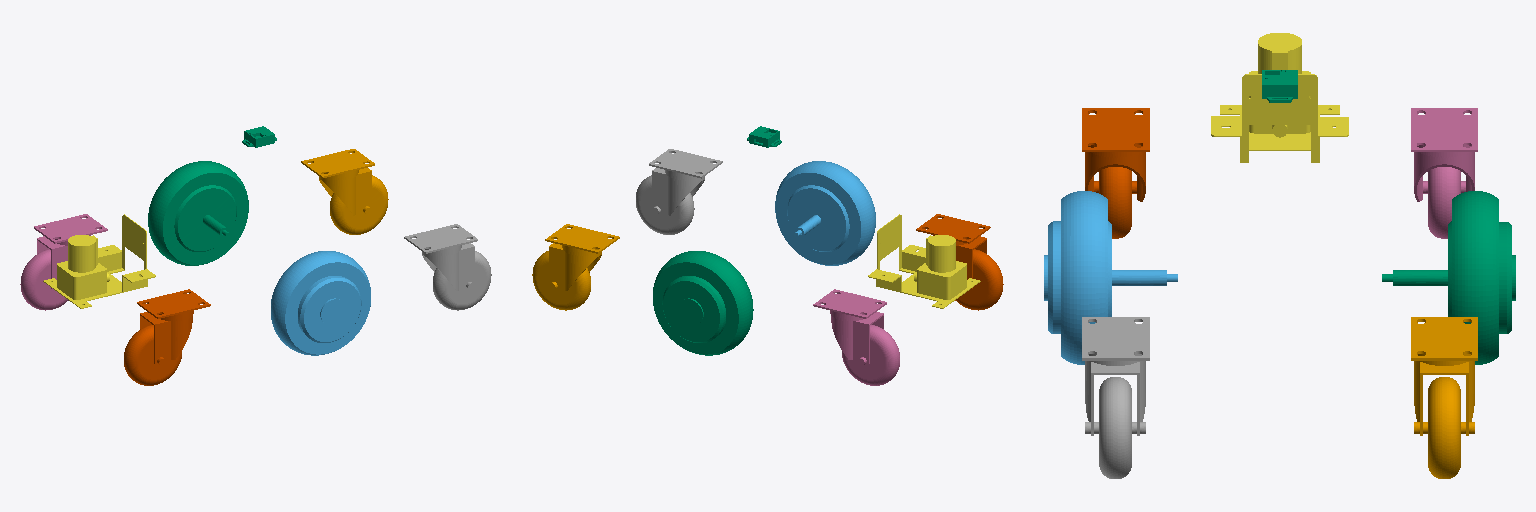
robot.urdf — amr:
<?xml version="1.0"?>
<robot name="amr">

  <link name="base_link" />
  <joint name="base_to_chassis_joint" type="fixed">
    <parent link="base_link" />
    <child link="chassis_link" />
    <origin xyz="0 0 0" rpy="0 0 -1.5708" />
  </joint>
  <link name="chassis_link">
    <visual>
      <origin xyz="0 0 0.179749" rpy="0 0 0" />
      <geometry>
        <mesh filename="package://amr_description/meshes/base_link.obj" scale="1 1 1" />
      </geometry>
    </visual>
    <collision>
      <origin xyz="0 0.22 0.199749" rpy="0 0 0" />
      <geometry>
        <box size="0.47 0.71 0.35" />
      </geometry>
    </collision>
    <inertial>
      <origin xyz="0 0.22 0.199749" rpy="0 0 0" />
      <mass value="25.0" /> 
      <inertia ixx="1.3054" ixy="0" ixz="0" iyy="0.7154" iyz="0" izz="1.5104" />
    </inertial>
  </link>
  <link name="imu_link">
    <visual>
      <origin xyz="0 0 0" rpy="0 0 0" />
      <geometry>
        <mesh filename="package://amr_description/meshes/imu_link.obj" scale="1 1 1" />
      </geometry>
    </visual>
    <inertial>
      <mass value="0.05" /> 
      <inertia ixx="1.21e-05" ixy="0" ixz="0" iyy="6.11e-06" iyz="0" izz="1.62e-05" />
    </inertial>
  </link>

  <joint name="imu_joint" type="fixed">
    <parent link="chassis_link" />
    <child link="imu_link" />
    <origin xyz="0 0 0.179749" rpy="0 0 0" /> 
  </joint>

  <gazebo reference="imu_link">
    <sensor name="imu_sensor" type="imu">
      <always_on>true</always_on>
      <update_rate>100</update_rate>
      <visualize>false</visualize>
      <topic>imu</topic>
      <gz_frame_id>imu_link</gz_frame_id>
    </sensor>
  </gazebo>

  <link name="lidar_link">
    <visual>
      <origin xyz="0 0.085781 0" rpy="0 0 0" />
      <geometry>
        <mesh filename="package://amr_description/meshes/lidar_link.obj" scale="1 1 1" />
      </geometry>
    </visual>
    <inertial>
      <mass value="0.2" />
      <inertia ixx="0.000436" ixy="0" ixz="0" iyy="0.000451" iyz="0" izz="0.000586" />
    </inertial>
  </link>

  <joint name="lidar_joint" type="fixed">
    <parent link="chassis_link" />
    <child link="lidar_link" />
    <origin xyz="0 -0.085781 0.179749" rpy="0 0 0" /> 
  </joint>

  <gazebo reference="lidar_link">
    <sensor name="lidar_sensor" type="gpu_lidar">
      <always_on>true</always_on>
      <update_rate>10</update_rate>
      <visualize>true</visualize>
      <topic>scan</topic>
      <gz_frame_id>lidar_link</gz_frame_id>
      <lidar>
        <scan>
          <horizontal>
            <samples>540</samples>
            <resolution>1</resolution>
            <min_angle>-1.5708</min_angle>
            <max_angle>1.5708</max_angle>
          </horizontal>
        </scan>
        <range>
          <min>0.1</min>
          <max>10.0</max>
          <resolution>0.01</resolution>
        </range>
      </lidar>
    </sensor>
  </gazebo>

  <link name="enclosure_link">
    <visual>
      <origin xyz="0 0 0" rpy="0 0 0" />
      <geometry>
        <mesh filename="package://amr_description/meshes/enclosure_link.obj" scale="1 1 1" />
      </geometry>
    </visual>
    <inertial>
      <mass value="2.0" /> 
      <inertia ixx="0.09913" ixy="0" ixz="0" iyy="0.04993" iyz="0" izz="0.12283" />
    </inertial>
  </link>

  <joint name="enclosure_joint" type="fixed">
    <parent link="chassis_link" />
    <child link="enclosure_link" />
    <origin xyz="0 0 0.179749" rpy="0 0 0" /> 
  </joint>

  <link name="caster1_link">
    <visual>
      <origin xyz="0.16 0.03 0.114749" rpy="0 0 0" />
      <geometry>
        <mesh filename="package://amr_description/meshes/caster1_link.obj" scale="1 1 1" />
      </geometry>
    </visual>
    <collision>
      <origin xyz="0 0 0" rpy="0 0 0" />
      <geometry>
        <sphere radius="0.065" />
      </geometry>
    </collision>
    <inertial>
      <mass value="0.2" /> <!-- PLACEHOLDER mass -->
      <inertia ixx="0.000338" ixy="0" ixz="0" iyy="0.000338" iyz="0" izz="0.000338" />
    </inertial>
  </link>

  <joint name="caster1_joint" type="fixed">
    <parent link="chassis_link" />
    <child link="caster1_link" />
    <origin xyz="-0.16 -0.03 0.065" rpy="0 0 0" /> 
  </joint>

  <gazebo reference="caster1_link">
    <mu1>0.0</mu1>
    <mu2>0.0</mu2>
  </gazebo>

  <link name="caster2_link">
    <visual>
      <origin xyz="-0.16 0.03 0.114749" rpy="0 0 0" />
      <geometry>
        <mesh filename="package://amr_description/meshes/caster2_link.obj" scale="1 1 1" />
      </geometry>
    </visual>
    <collision>
      <origin xyz="0 0 0" rpy="0 0 0" />
      <geometry>
        <sphere radius="0.065" />
      </geometry>
    </collision>
    <inertial>
      <mass value="0.2" /> 
      <inertia ixx="0.000338" ixy="0" ixz="0" iyy="0.000338" iyz="0" izz="0.000338" />
    </inertial>
  </link>

  <joint name="caster2_joint" type="fixed">
    <parent link="chassis_link" />
    <child link="caster2_link" />
    <origin xyz="0.16 -0.03 0.065" rpy="0 0 0" /> 
  </joint>

  <gazebo reference="caster2_link">
    <mu1>0.0</mu1>
    <mu2>0.0</mu2>
  </gazebo>

  <link name="caster3_link">
    <visual>
      <origin xyz="0.16 -0.49 0.114749" rpy="0 0 0" />
      <geometry>
        <mesh filename="package://amr_description/meshes/caster3_link.obj" scale="1 1 1" />
      </geometry>
    </visual>
    <collision>
      <origin xyz="0 0 0" rpy="0 0 0" />
      <geometry>
        <sphere radius="0.065" />
      </geometry>
    </collision>
    <inertial>
      <mass value="0.2" /> 
      <inertia ixx="0.000338" ixy="0" ixz="0" iyy="0.000338" iyz="0" izz="0.000338" />
    </inertial>
  </link>

  <joint name="caster3_joint" type="fixed">
    <parent link="chassis_link" />
    <child link="caster3_link" />
    <origin xyz="-0.16 0.49 0.065" rpy="0 0 0" /> 
  </joint>

  <gazebo reference="caster3_link">
    <mu1>0.0</mu1>
    <mu2>0.0</mu2>
  </gazebo>

  <link name="caster4_link">
    <visual>
      <origin xyz="-0.16 -0.49 0.114749" rpy="0 0 0" />
      <geometry>
        <mesh filename="package://amr_description/meshes/caster4_link.obj" scale="1 1 1" />
      </geometry>
    </visual>
    <collision>
      <origin xyz="0 0 0" rpy="0 0 0" />
      <geometry>
        <sphere radius="0.065" />
      </geometry>
    </collision>
    <inertial>
      <mass value="0.2" /> 
      <inertia ixx="0.000338" ixy="0" ixz="0" iyy="0.000338" iyz="0" izz="0.000338" />
    </inertial>
  </link>

  <joint name="caster4_joint" type="fixed">
    <parent link="chassis_link" />
    <child link="caster4_link" />
    <origin xyz="0.16 0.49 0.065" rpy="0 0 0" /> 
  </joint>

  <gazebo reference="caster4_link">
    <mu1>0.0</mu1>
    <mu2>0.0</mu2>
  </gazebo>

  <link name="wheel_left_link">
    <visual>
      <origin xyz="-0.1902635 -0.233008 0.094749" rpy="0 0 0" />
      <geometry>
        <mesh filename="package://amr_description/meshes/wheel_left_link.obj" scale="1 1 1" />
      </geometry>
    </visual>
    <collision>
      <origin xyz="0 0 0" rpy="0 1.5708 0" />
      <geometry>
        <cylinder radius="0.085" length="0.06" />
      </geometry>
    </collision>
    <inertial>
      <mass value="5.0" /> 
      <inertia ixx="0.018063" ixy="0" ixz="0" iyy="0.010531" iyz="0" izz="0.010531" />
    </inertial>
  </link>

  <joint name="wheel_left_joint" type="continuous">
    <parent link="chassis_link" />
    <child link="wheel_left_link" />
    <origin xyz="0.1902635 0.233008 0.085" rpy="0 0 0" />
    <axis xyz="1 0 0" />
    <dynamics damping="0.1" friction="0.0" /> 
  </joint>

  <link name="wheel_right_link">
    <visual>
      <origin xyz="0.1902635 -0.233088 0.094749" rpy="0 0 0" />
      <geometry>
        <mesh filename="package://amr_description/meshes/wheel_right_link.obj" scale="1 1 1" />
      </geometry>
    </visual>
    <collision>
      <origin xyz="0 0 0" rpy="0 1.5708 0" />
      <geometry>
        <cylinder radius="0.085" length="0.06" />
      </geometry>
    </collision>
    <inertial>
      <mass value="5.0" /> 
      <inertia ixx="0.018063" ixy="0" ixz="0" iyy="0.010531" iyz="0" izz="0.010531" />
    </inertial>
  </link>

  <joint name="wheel_right_joint" type="continuous">
    <parent link="chassis_link" />
    <child link="wheel_right_link" />
    <origin xyz="-0.1902635 0.233088 0.085" rpy="0 0 0" />
    <axis xyz="1 0 0" />
    <dynamics damping="0.1" friction="0.0" /> <!-- back to the ORIGINAL default, same reasoning as wheel_left_joint above -->
  </joint>
  <gazebo>
    <plugin filename="gz-sim-joint-controller-system" name="gz::sim::systems::JointController">
      <joint_name>wheel_left_joint</joint_name>
      <use_force_commands>true</use_force_commands>
      <p_gain>2.0</p_gain>   
      <i_gain>0.1</i_gain>  
      <d_gain>0.0</d_gain>  
      <cmd_max>5.0</cmd_max>
      <cmd_min>-5.0</cmd_min>
    </plugin>
  </gazebo>

  <gazebo>
    <plugin filename="gz-sim-joint-controller-system" name="gz::sim::systems::JointController">
      <joint_name>wheel_right_joint</joint_name>
      <use_force_commands>true</use_force_commands>
      <p_gain>2.0</p_gain>  
      <i_gain>0.1</i_gain>  
      <d_gain>0.0</d_gain>   
      <cmd_max>5.0</cmd_max>
      <cmd_min>-5.0</cmd_min>
    </plugin>
  </gazebo>

  <gazebo>
    <plugin filename="gz-sim-joint-state-publisher-system" name="gz::sim::systems::JointStatePublisher">
      <joint_name>wheel_left_joint</joint_name>
      <joint_name>wheel_right_joint</joint_name>
    </plugin>
  </gazebo>

  <link name="camera_left_link">
    <visual>
      <origin xyz="-0.119515 0.033443 0.054824" rpy="0 0 0" />
      <geometry>
        <mesh filename="package://amr_description/meshes/camera_left_link.obj" scale="1 1 1" />
      </geometry>
    </visual>
    <inertial>
      <mass value="0.1" />
      <inertia ixx="4.698e-05" ixy="0" ixz="0" iyy="1.496e-04" iyz="0" izz="1.532e-04" />
    </inertial>
  </link>

  <joint name="camera_left_joint" type="fixed">
    <parent link="chassis_link" />
    <child link="camera_left_link" />
    <origin xyz="0.119515 -0.033443 0.124925" rpy="0 0 0" /> <!-- measured camera mount + chassis-wide ground-contact Z offset -->
  </joint>
  <gazebo reference="camera_left_link">
    <sensor name="camera_left_sensor" type="camera">
      <always_on>true</always_on>
      <update_rate>20</update_rate>
      <visualize>true</visualize>
      <topic>camera_left/image</topic>
      <gz_frame_id>camera_left_link</gz_frame_id>
      <pose>-0.0 -0.05 0.12400 0 -0.0 -1.720</pose>
      <camera>
        <horizontal_fov>1.0472</horizontal_fov> <!-- 60 deg, PLACEHOLDER -->
        <image>
          <width>640</width>
          <height>480</height>
          <format>R8G8B8</format>
        </image>
        <clip>
          <near>0.05</near>
          <far>50</far>
        </clip>
        <camera_info_topic>camera_left/camera_info</camera_info_topic>
      </camera>
    </sensor>
  </gazebo>

  <link name="camera_right_link">
    <visual>
      <origin xyz="0.118646 0.033526 0.054825" rpy="0 0 0" />
      <geometry>
        <mesh filename="package://amr_description/meshes/camera_right_link.obj" scale="1 1 1" />
      </geometry>
    </visual>
    <inertial>
      <mass value="0.1" /> 
      <inertia ixx="4.698e-05" ixy="0" ixz="0" iyy="1.496e-04" iyz="0" izz="1.532e-04" />
    </inertial>
  </link>

  <joint name="camera_right_joint" type="fixed">
    <parent link="chassis_link" />
    <child link="camera_right_link" />
    <origin xyz="-0.118646 -0.033526 0.124924" rpy="0 0 0" />
  </joint>

  <gazebo reference="camera_right_link">
    <sensor name="camera_right_sensor" type="camera">
      <always_on>true</always_on>
      <update_rate>20</update_rate>
      <visualize>true</visualize>
      <topic>camera_right/image</topic>
      <gz_frame_id>camera_right_link</gz_frame_id>
      <pose>-0.0 -0.05 0.12400 0 -0.0 -1.720</pose> 
      <camera>
        <horizontal_fov>1.0472</horizontal_fov> 
        <image>
          <width>640</width>
          <height>480</height>
          <format>R8G8B8</format>
        </image>
        <clip>
          <near>0.05</near>
          <far>50</far>
        </clip>
        <camera_info_topic>camera_right/camera_info</camera_info_topic>
      </camera>
    </sensor>
  </gazebo>

</robot>

--- Render facts (derived) ---
The picture shows the robot from 3 angles, left to right: view 1: azimuth 30°, elevation 25°; view 2: azimuth 150°, elevation 25°; view 3: azimuth 270°, elevation 25°; orthographic projection.
Robot: amr — 13 links, 12 joints (2 continuous, 10 fixed); root link base_link; default pose: all joints at 0.
Visible links, largest first — view 1: wheel_right_link, wheel_left_link, lidar_link, caster1_link, caster4_link, caster3_link, caster2_link, imu_link; view 2: wheel_left_link, wheel_right_link, lidar_link, caster2_link, caster3_link, caster4_link, caster1_link, imu_link; view 3: wheel_left_link, wheel_right_link, lidar_link, caster3_link, caster4_link, caster1_link, caster2_link, imu_link.
Link boxes in pixels (bbox=[...]): wheel_right_link: bbox=[148, 161, 248, 265]; wheel_left_link: bbox=[271, 251, 370, 355]; lidar_link: bbox=[43, 214, 155, 308]; caster1_link: bbox=[124, 289, 210, 385]; caster4_link: bbox=[301, 149, 388, 234]; caster3_link: bbox=[404, 224, 491, 310]; caster2_link: bbox=[20, 214, 107, 310]; imu_link: bbox=[242, 126, 276, 147]; wheel_left_link: bbox=[775, 161, 875, 265]; wheel_right_link: bbox=[653, 251, 753, 355]; lidar_link: bbox=[868, 214, 980, 308]; caster2_link: bbox=[813, 289, 899, 385]; caster3_link: bbox=[636, 149, 722, 234]; caster4_link: bbox=[532, 224, 619, 310]; caster1_link: bbox=[916, 214, 1003, 310]; imu_link: bbox=[747, 126, 781, 147]; wheel_left_link: bbox=[1044, 191, 1177, 364]; wheel_right_link: bbox=[1382, 191, 1515, 364]; lidar_link: bbox=[1211, 33, 1348, 162]; caster3_link: bbox=[1082, 317, 1149, 478]; caster4_link: bbox=[1411, 317, 1477, 478]; caster1_link: bbox=[1082, 108, 1149, 238]; caster2_link: bbox=[1411, 108, 1477, 238]; imu_link: bbox=[1262, 70, 1297, 102].
Size in the robot's own frame: 0.6747 by 0.4584 by 0.3005 metres.
Meshes: 12 distinct files referenced, 8 mesh visuals loaded (8 OBJ); not drawn: 4 (reference not matched to a file when rendering).
